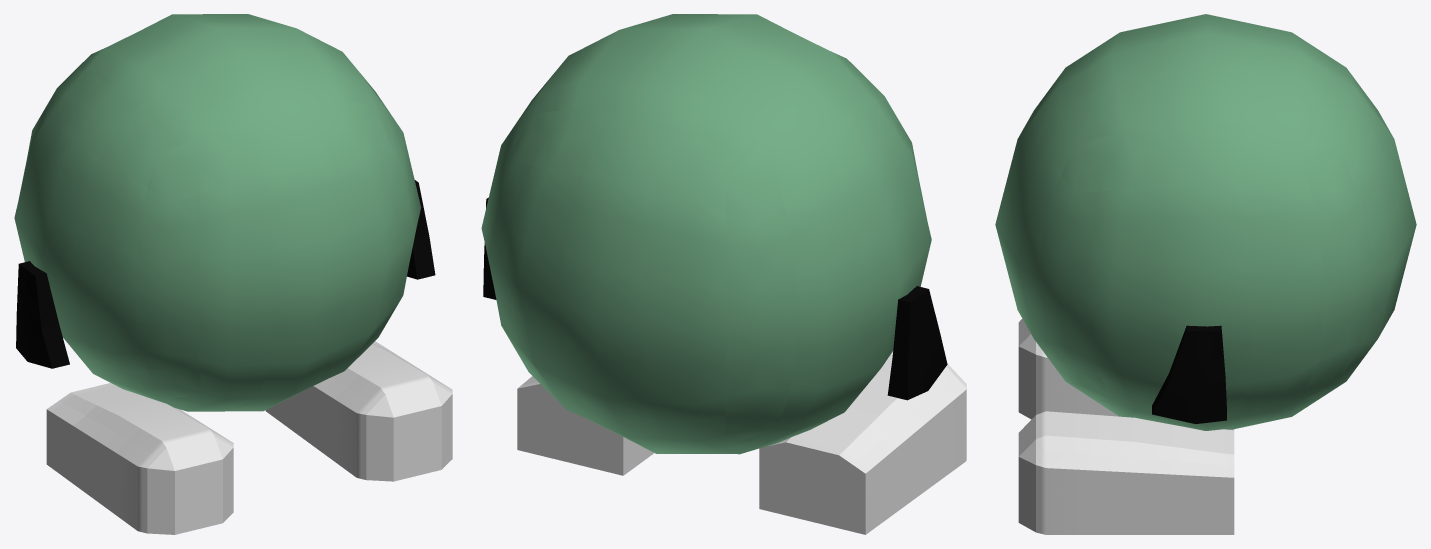
Rendered from boimodel.fbx.
3 views of the same model, side by side, from view 1: azimuth 30°, elevation 25°; view 2: azimuth 150°, elevation 25°; view 3: azimuth 270°, elevation 25° (orthographic). The views are drawn at different scales.
Parts seen in each view (by area): view 1: body, rt_foot, lf_foot, rt_hand, lf_hand; view 2: body, rt_foot, lf_foot, rt_hand; view 3: body, lf_foot, lf_hand, rt_foot.
Part boxes in pixels (x1,y1,x2,y2): body: (14,14,421,411); rt_foot: (46,383,233,534); lf_foot: (265,341,452,481); rt_hand: (16,261,69,368); lf_hand: (407,180,435,279); body: (481,14,931,454); rt_foot: (759,351,966,534); lf_foot: (517,376,653,475); rt_hand: (887,286,947,400); body: (995,14,1416,430); lf_foot: (1018,411,1234,534); lf_hand: (1152,325,1226,424); rt_foot: (1018,318,1118,419).
Size of the model in its own units: 8.96 by 8.89 by 8.05.
